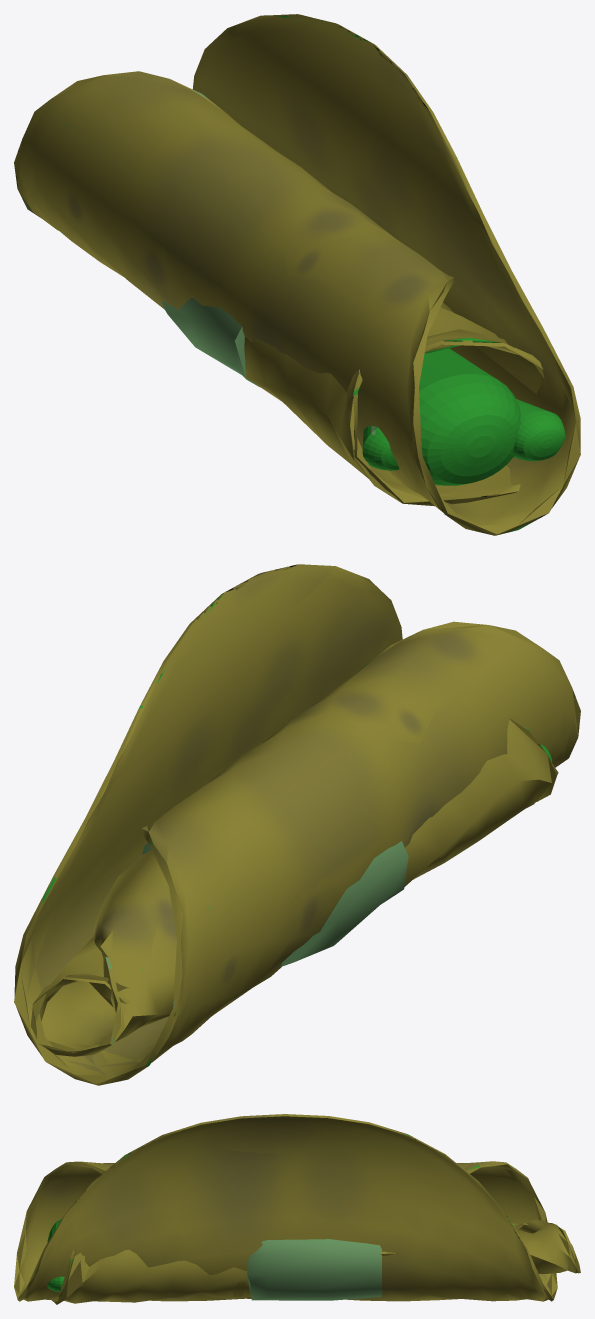
Rendered from Sawarma.glb.
The picture shows the model from 3 angles, top to bottom: view 1: azimuth 30°, elevation 25°; view 2: azimuth 150°, elevation 25°; view 3: azimuth 270°, elevation 25°; orthographic projection. The views are drawn at different scales.
Visible parts, largest first — view 1: Flatbread, Shawarma; view 2: Flatbread, Shawarma; view 3: Flatbread, Shawarma.
Part boxes in pixels (bbox=[...]): Flatbread: bbox=[14, 14, 580, 535]; Shawarma: bbox=[162, 297, 565, 506]; Flatbread: bbox=[14, 564, 580, 1085]; Shawarma: bbox=[30, 719, 558, 1056]; Flatbread: bbox=[14, 1114, 557, 1301]; Shawarma: bbox=[47, 1219, 580, 1304].
Bounding box in the file's own units: 0.5479 × 0.8222 × 2.08.
Materials: 1 (1 with a texture image).
